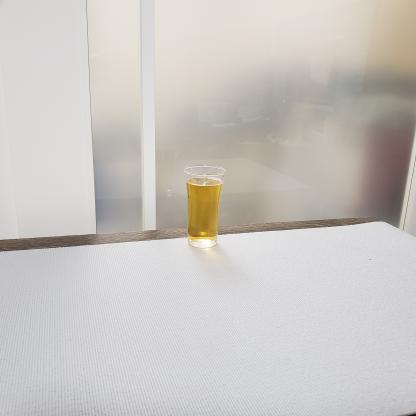glass: (177, 158, 233, 252)
